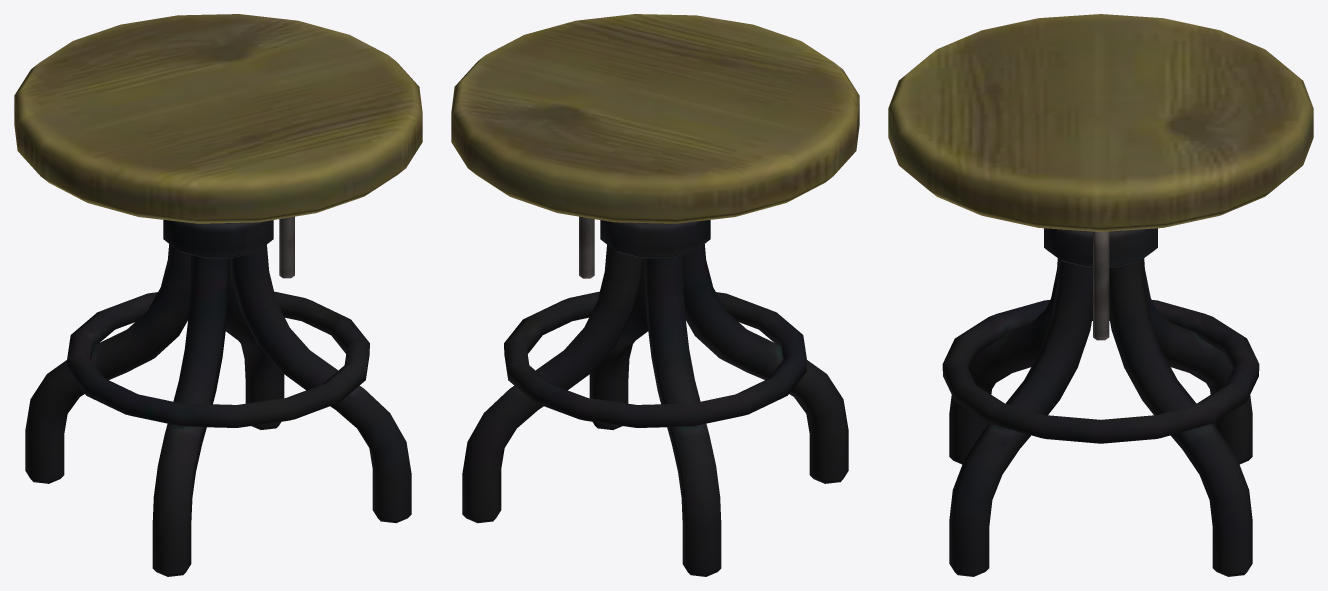
The picture shows the model from 3 angles, left to right: view 1: azimuth 30°, elevation 25°; view 2: azimuth 150°, elevation 25°; view 3: azimuth 270°, elevation 25°; orthographic projection. The views are drawn at different scales.
Size of the model in its own units: 5.1 by 5.49 by 5.1.
1 material, 1 textured.
